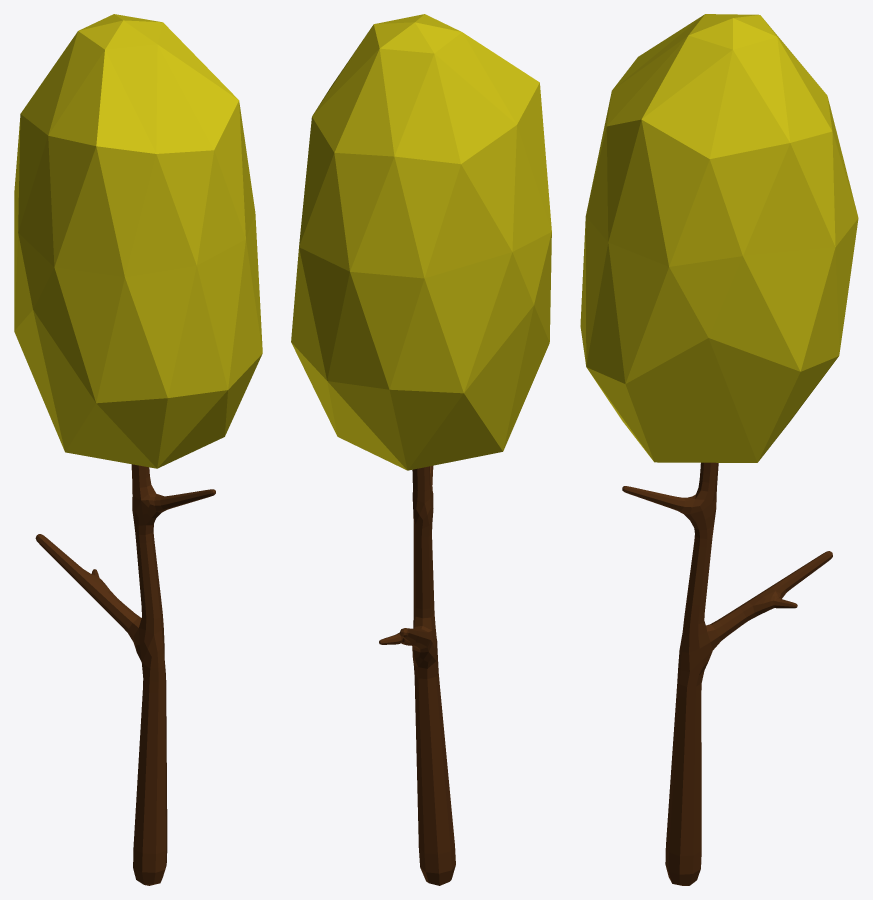
Rendered from leaftree.obj.
3 views of the same model, side by side, from view 1: azimuth 30°, elevation 25°; view 2: azimuth 150°, elevation 25°; view 3: azimuth 270°, elevation 25° (orthographic). The views are drawn at different scales.
Visible parts, largest first — view 1: Tree_Cube; view 2: Tree_Cube; view 3: Tree_Cube.
Boxes of the visible parts, x1,y1,x2,y2 form: Tree_Cube: [14, 14, 262, 885]; Tree_Cube: [291, 14, 551, 885]; Tree_Cube: [580, 14, 858, 885].
Bounding box in the file's own units: 3.51 × 14.01 × 4.07.
